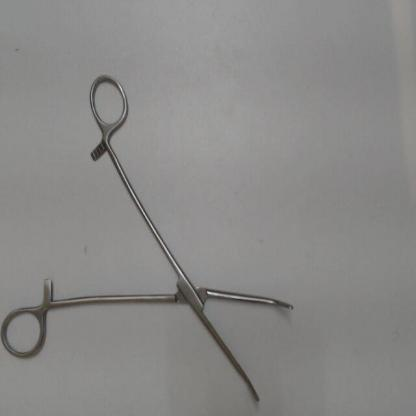Lahey Forceps: (2, 68, 303, 410)
